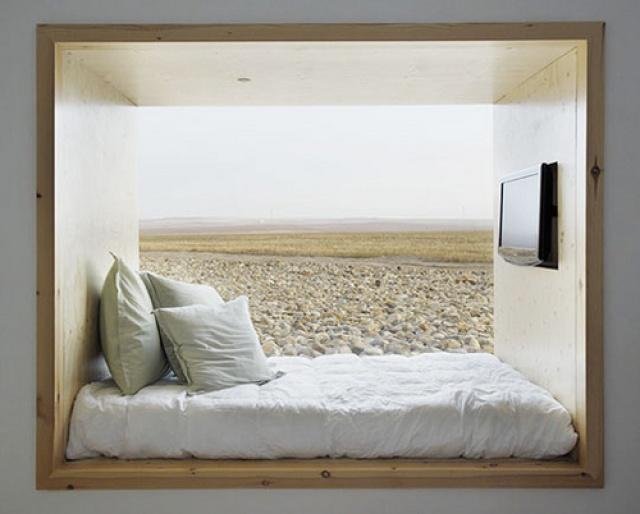AIO PC-Monitor-TV: (495, 161, 550, 267)
